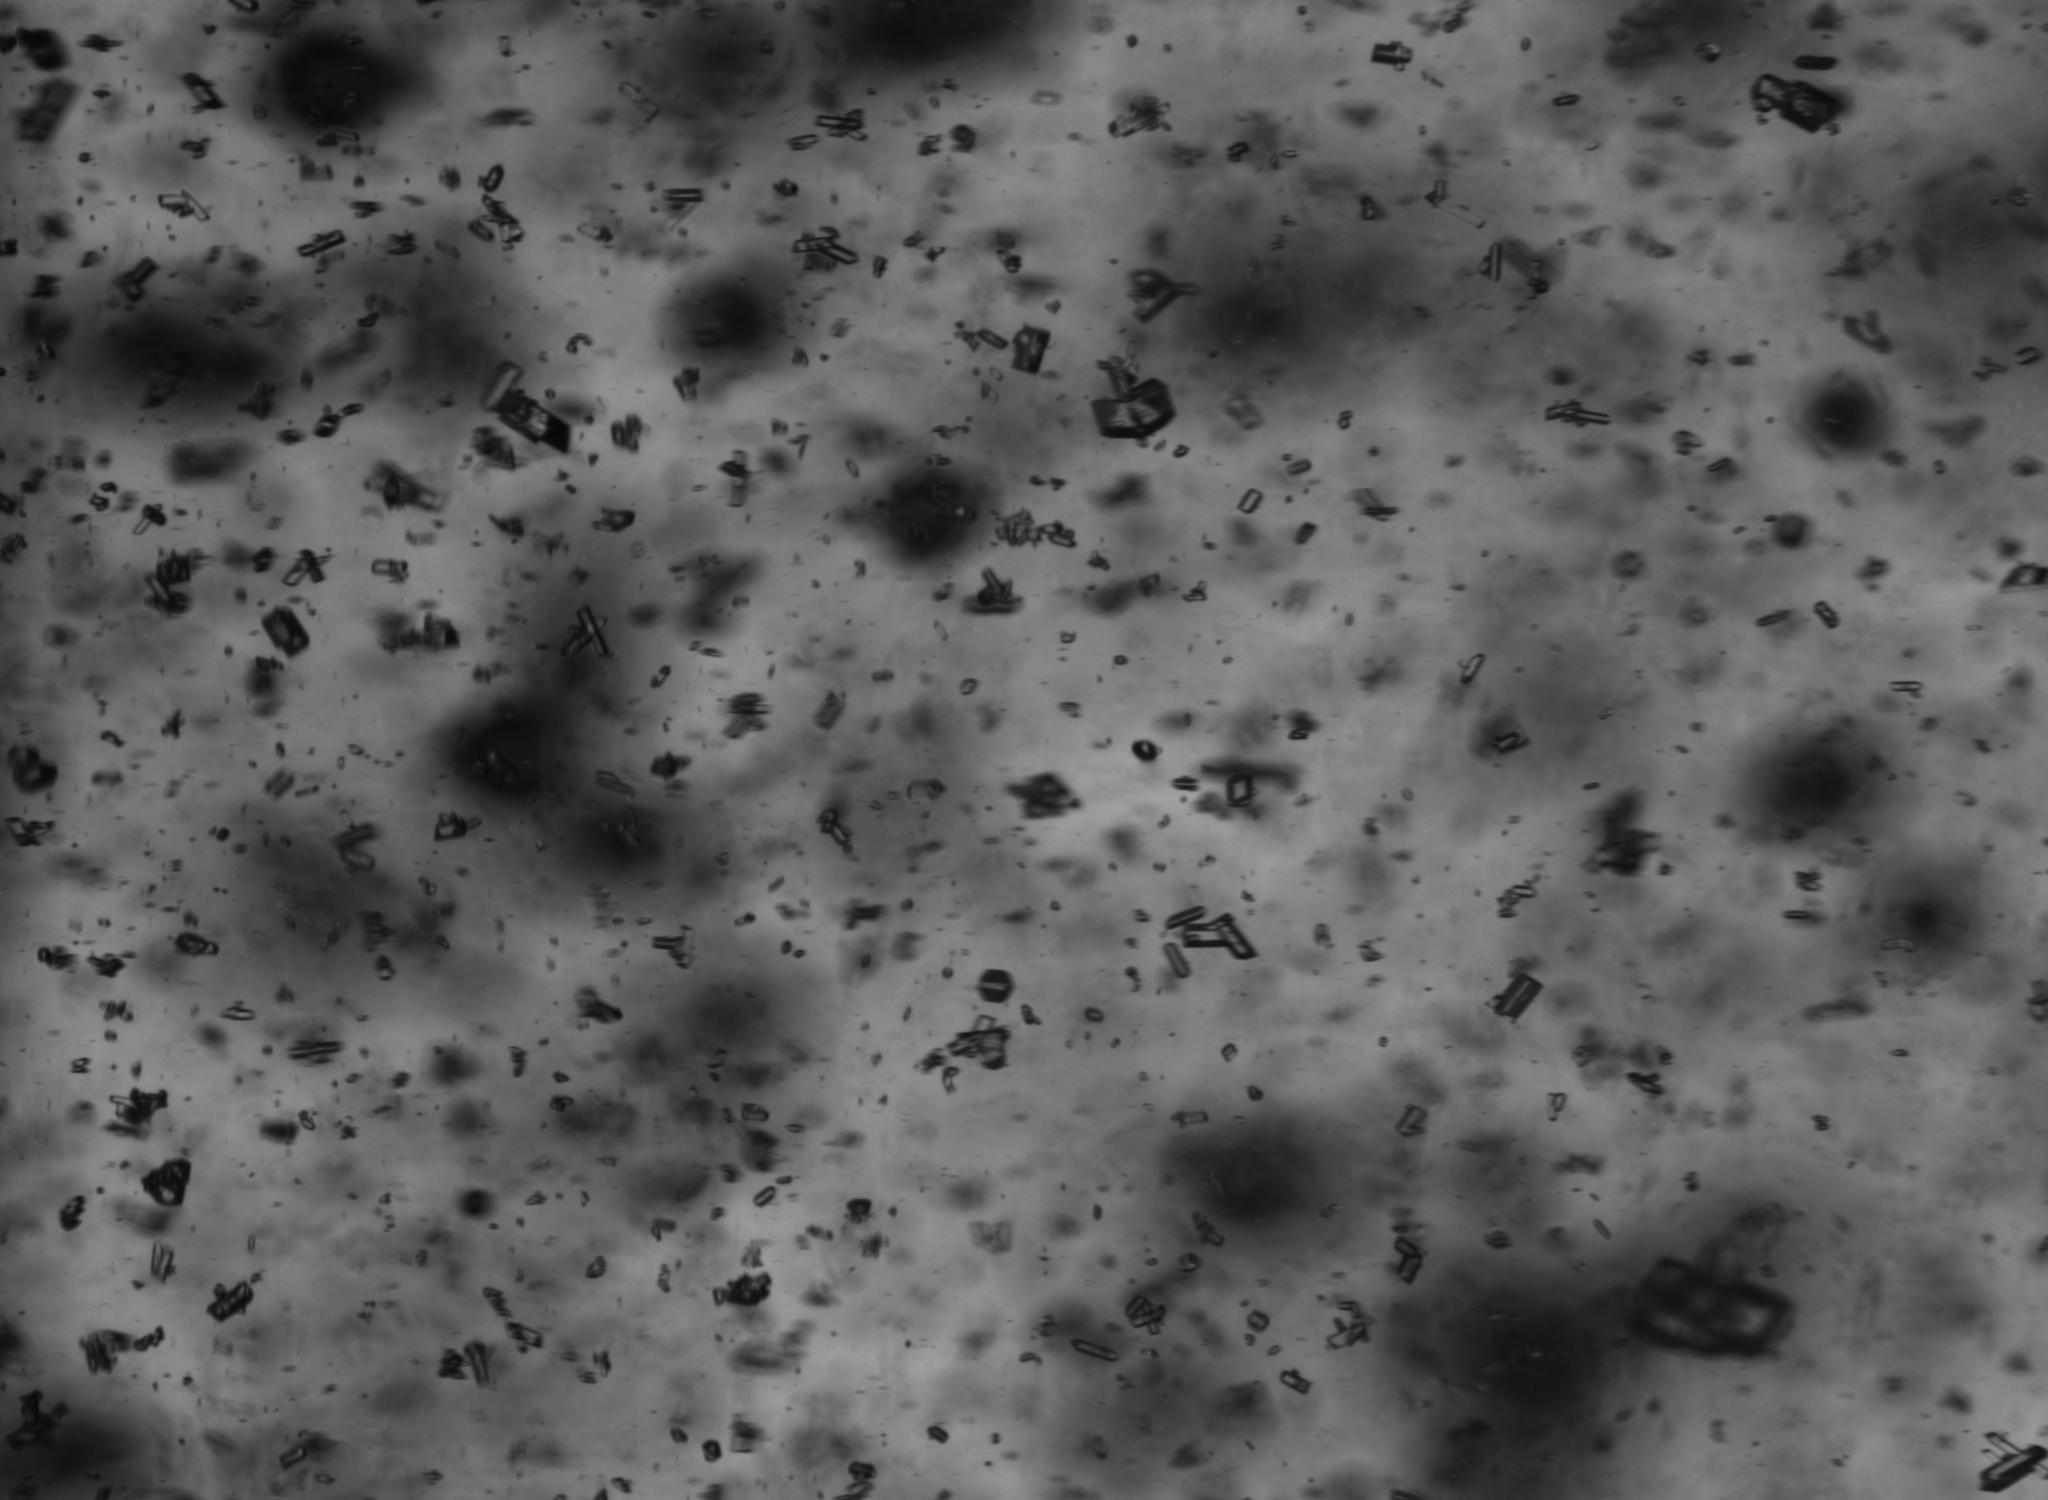crystal: (1751, 73, 1846, 134), (1089, 377, 1177, 441), (496, 388, 571, 453), (1980, 1432, 2048, 1492), (1129, 269, 1197, 323), (946, 1013, 1010, 1071), (1181, 913, 1258, 961), (370, 463, 439, 511), (1426, 180, 1487, 229), (1490, 970, 1544, 1024), (107, 1088, 167, 1136), (560, 603, 609, 659), (140, 1156, 191, 1207), (1104, 102, 1170, 140), (261, 606, 308, 657), (329, 822, 377, 872), (480, 359, 525, 412), (80, 1328, 130, 1373), (483, 194, 525, 247), (714, 1271, 773, 1308), (1010, 324, 1051, 375), (792, 235, 860, 266), (207, 1280, 254, 1322), (650, 927, 695, 970), (978, 565, 1022, 606), (994, 506, 1040, 546), (280, 549, 326, 587), (5, 814, 54, 848), (180, 73, 224, 110), (615, 81, 660, 118), (157, 189, 208, 221), (1843, 317, 1889, 352), (1126, 1296, 1166, 1335), (14, 757, 57, 792), (432, 811, 480, 841), (1547, 402, 1611, 425), (975, 969, 1014, 1004), (1495, 884, 1536, 918), (1396, 1236, 1425, 1284), (1996, 565, 2048, 590), (153, 555, 194, 587), (421, 617, 460, 651), (297, 231, 347, 256), (172, 931, 219, 956), (130, 503, 165, 536), (464, 1341, 490, 1385), (507, 1320, 544, 1350), (148, 1242, 175, 1282), (1325, 1323, 1366, 1349), (1072, 1339, 1118, 1362), (1396, 1104, 1426, 1137), (57, 1196, 86, 1231), (728, 450, 746, 507), (286, 1042, 342, 1059), (436, 1349, 466, 1381), (86, 954, 126, 978), (1166, 905, 1205, 929), (1164, 942, 1191, 977), (1790, 54, 1840, 73), (1493, 727, 1530, 752), (611, 418, 641, 449), (906, 779, 944, 803), (1477, 243, 1501, 282), (1625, 1071, 1663, 1094), (130, 1327, 165, 1352), (595, 770, 630, 795), (1038, 523, 1075, 547), (129, 256, 157, 286), (278, 1443, 308, 1471), (663, 188, 704, 208), (595, 511, 636, 531), (1372, 45, 1414, 65), (1228, 771, 1251, 806), (266, 771, 294, 800), (370, 558, 407, 581), (579, 221, 614, 243), (483, 1287, 510, 1315), (297, 161, 334, 181), (385, 232, 418, 255), (1278, 1371, 1312, 1393), (1813, 600, 1840, 627), (785, 132, 824, 151), (1525, 259, 1542, 301), (976, 328, 1008, 350), (814, 115, 863, 129), (1235, 488, 1263, 514), (312, 414, 340, 437), (466, 218, 495, 242), (1461, 654, 1484, 684), (1754, 608, 1789, 627), (652, 756, 684, 776), (1878, 937, 1918, 953), (221, 1004, 256, 1021), (483, 164, 504, 192), (1546, 1093, 1566, 1121), (700, 1438, 723, 1462), (1693, 43, 1722, 62), (1228, 138, 1250, 162), (2011, 347, 2042, 364), (375, 956, 396, 981), (997, 247, 1018, 272), (1358, 943, 1383, 964), (1247, 1311, 1269, 1333), (1132, 740, 1156, 760), (1285, 458, 1312, 476), (708, 1047, 728, 1069), (336, 402, 364, 418), (1177, 1110, 1208, 1125), (927, 1425, 951, 1444), (941, 1066, 959, 1091), (1181, 584, 1207, 601), (547, 1096, 574, 1112), (587, 1257, 606, 1279), (754, 1187, 776, 1206), (1592, 1218, 1611, 1241), (1178, 1253, 1202, 1271), (332, 127, 361, 142), (741, 1107, 770, 1121), (359, 1300, 375, 1325), (820, 808, 836, 834), (832, 822, 849, 845), (1887, 681, 1922, 692), (1170, 778, 1197, 792), (355, 312, 378, 328), (932, 617, 948, 641), (297, 1110, 316, 1129), (1706, 458, 1730, 472), (652, 666, 669, 686), (1220, 1042, 1237, 1061), (1204, 1230, 1223, 1247), (611, 1478, 631, 1494), (776, 180, 797, 196), (180, 140, 205, 153), (871, 256, 886, 278), (960, 678, 978, 695), (498, 35, 510, 59), (1553, 94, 1581, 105), (1021, 1005, 1035, 1026), (1288, 727, 1310, 740), (735, 913, 754, 927), (415, 1249, 428, 1269), (73, 1056, 89, 1072), (1811, 1115, 1827, 1131), (1086, 1007, 1104, 1021), (1339, 410, 1352, 429), (1782, 911, 1811, 919), (846, 460, 859, 477), (215, 827, 229, 841), (1248, 1086, 1263, 1101), (1361, 207, 1377, 220), (846, 130, 867, 140), (1336, 1300, 1356, 1309), (525, 1195, 545, 1204), (989, 366, 1002, 380), (385, 1215, 396, 1231), (1173, 447, 1189, 458), (100, 484, 118, 493), (774, 1176, 792, 1185), (1061, 633, 1075, 644), (1113, 655, 1127, 666), (579, 1191, 588, 1207), (91, 496, 108, 504), (785, 1125, 803, 1133), (782, 940, 792, 954), (1282, 150, 1296, 157), (248, 1234, 254, 1250), (929, 248, 944, 255), (97, 919, 110, 926)
